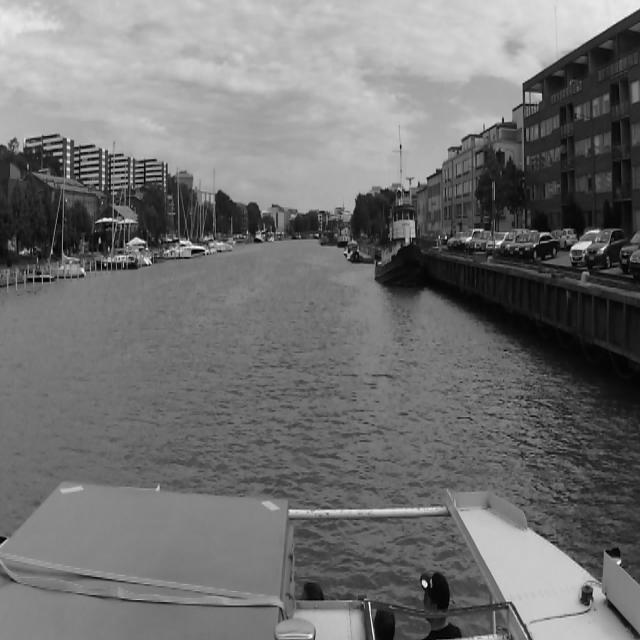ship: (95, 137, 139, 268), (375, 190, 427, 290), (47, 149, 85, 279), (163, 164, 205, 257), (205, 168, 232, 251), (21, 262, 54, 283), (313, 229, 341, 247), (344, 240, 360, 260), (319, 233, 337, 245), (254, 230, 263, 242), (268, 227, 274, 241), (292, 232, 298, 240), (298, 232, 302, 240), (280, 235, 284, 241)
